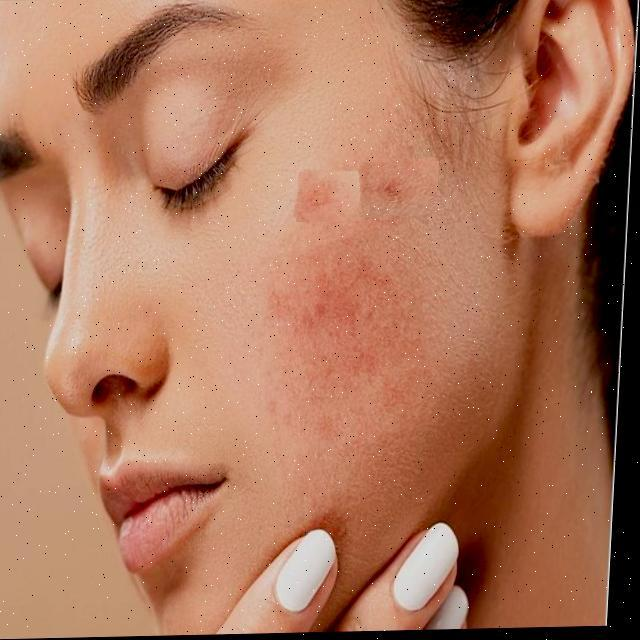redness: (255, 226, 443, 459), (360, 159, 441, 221), (294, 170, 367, 228)
